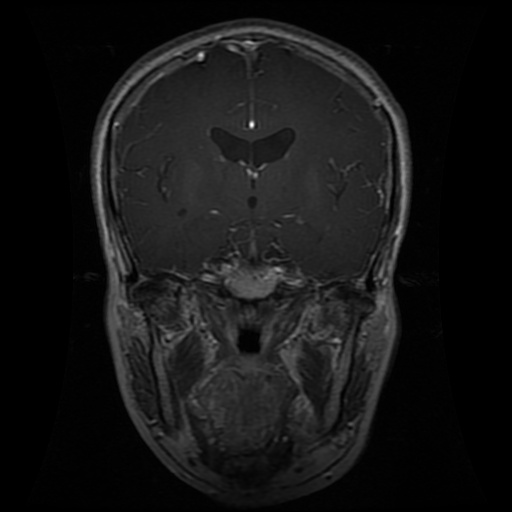glioma: (153, 151, 190, 217)
